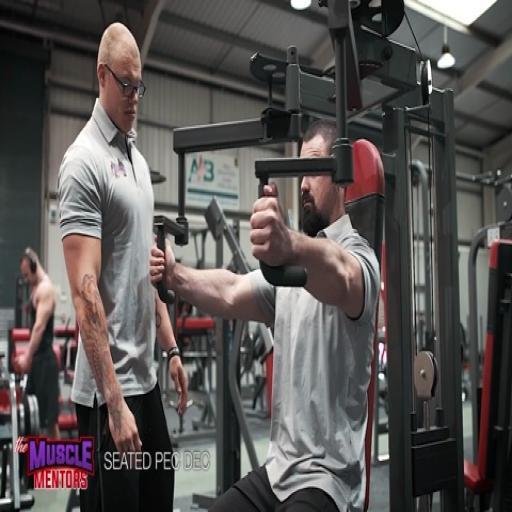exercise: (149, 116, 383, 510), (54, 20, 190, 510)
